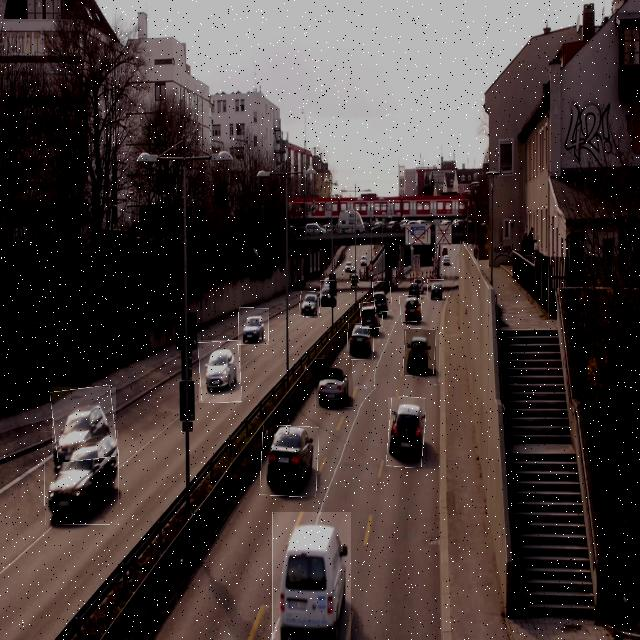Car: (272, 512, 351, 640), (45, 431, 119, 525), (52, 387, 116, 460), (262, 426, 318, 496), (199, 340, 241, 403), (388, 397, 425, 467), (315, 358, 353, 408), (404, 329, 436, 376), (238, 308, 269, 345), (348, 324, 374, 360), (360, 302, 383, 328), (399, 296, 422, 322), (299, 292, 321, 318), (373, 282, 392, 312), (320, 280, 337, 307), (427, 279, 444, 300)
